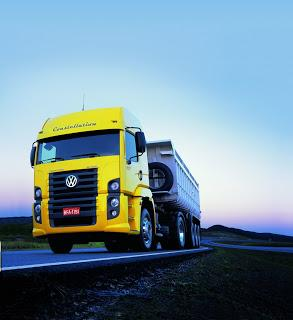truck: (29, 106, 202, 254)
